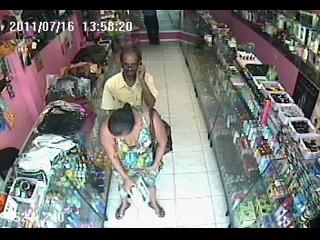Normal: (99, 47, 171, 226), (142, 10, 160, 46)
